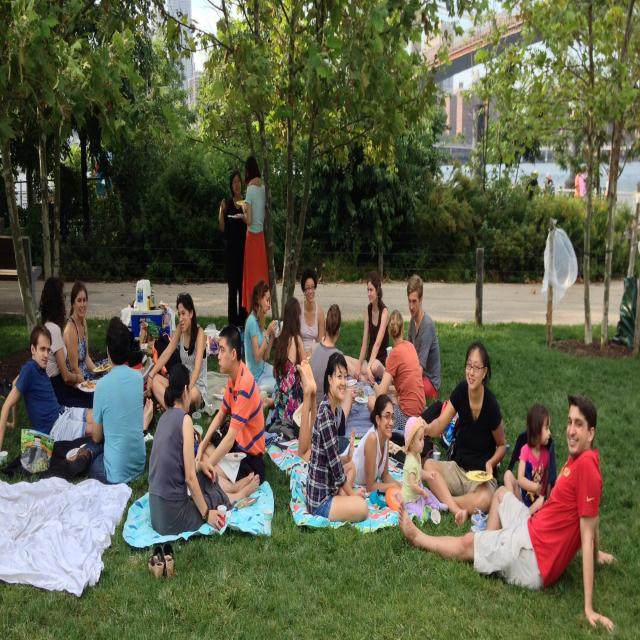body: (396, 391, 621, 637), (148, 360, 262, 540), (0, 324, 155, 454), (414, 339, 508, 529), (296, 359, 403, 493), (192, 322, 268, 490), (305, 350, 370, 526), (38, 276, 95, 410), (146, 291, 208, 414), (367, 308, 428, 432), (239, 154, 273, 329), (342, 269, 390, 389), (309, 303, 352, 434), (503, 402, 551, 518), (402, 415, 448, 525), (62, 280, 111, 382), (218, 169, 248, 331), (272, 295, 309, 425), (406, 274, 442, 402), (243, 278, 280, 394), (524, 161, 594, 215), (298, 266, 326, 363), (92, 139, 115, 206)
